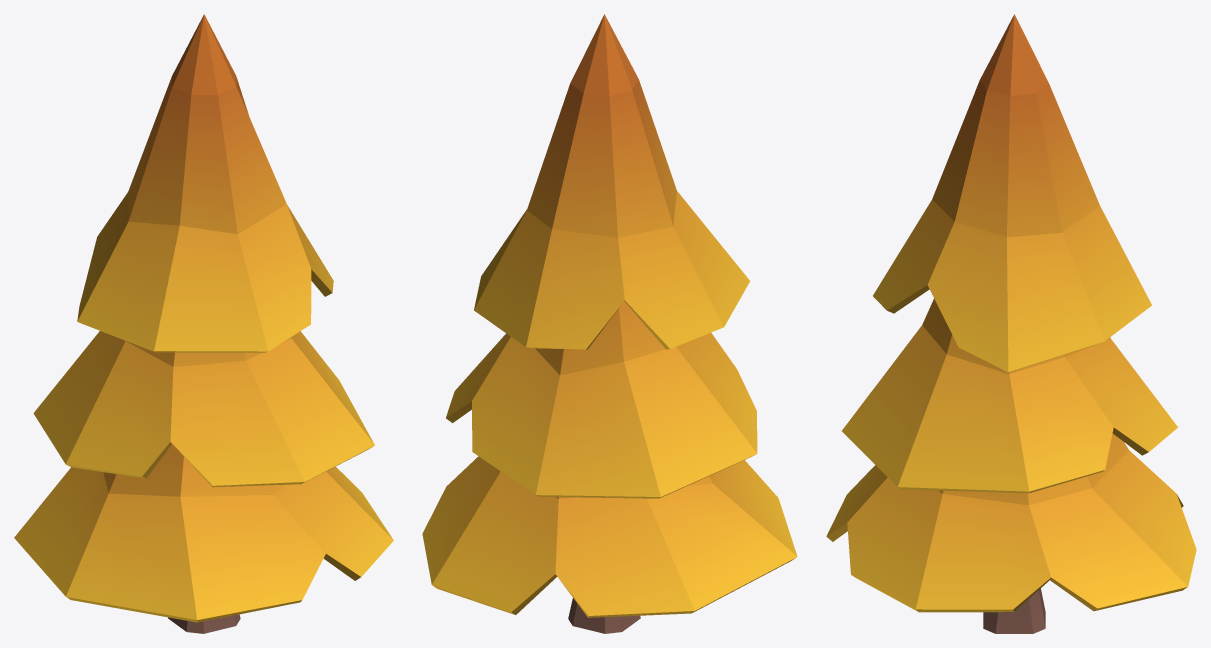
File: AutumnPine2.fbx
The picture shows the model from 3 angles, left to right: view 1: azimuth 30°, elevation 25°; view 2: azimuth 150°, elevation 25°; view 3: azimuth 270°, elevation 25°; orthographic projection.
Parts seen in each view (by area): view 1: AutumnPine2; view 2: AutumnPine2; view 3: AutumnPine2.
Part boxes in pixels (box(x1,y1,x2,y2)): AutumnPine2: box(14, 14, 393, 633); AutumnPine2: box(422, 14, 797, 633); AutumnPine2: box(826, 14, 1196, 633).
Size of the model in its own units: 432 by 773 by 428.
